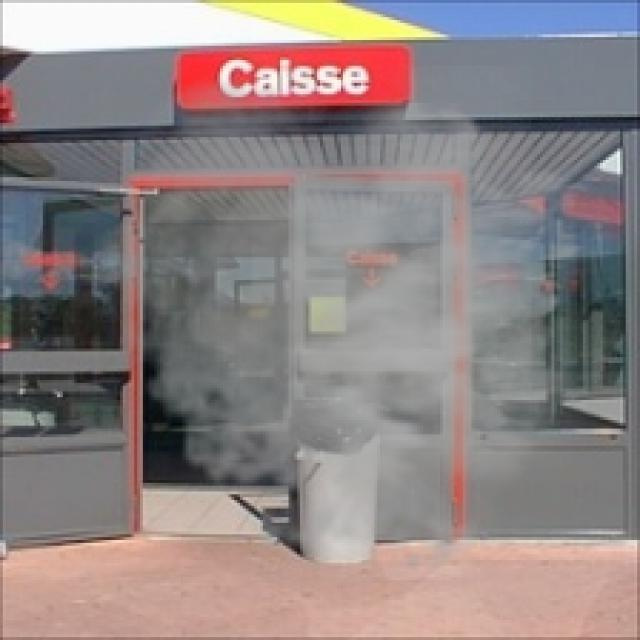Smoke: (83, 66, 626, 588)
